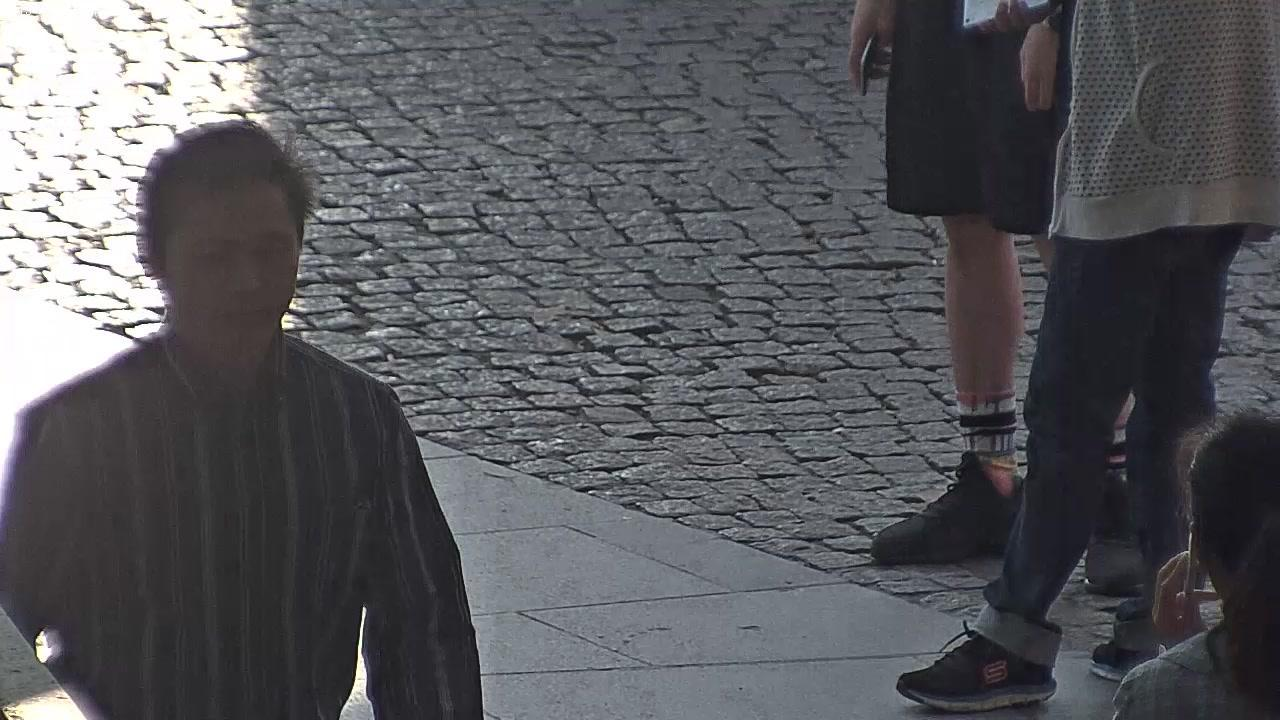face: (158, 182, 298, 352)
